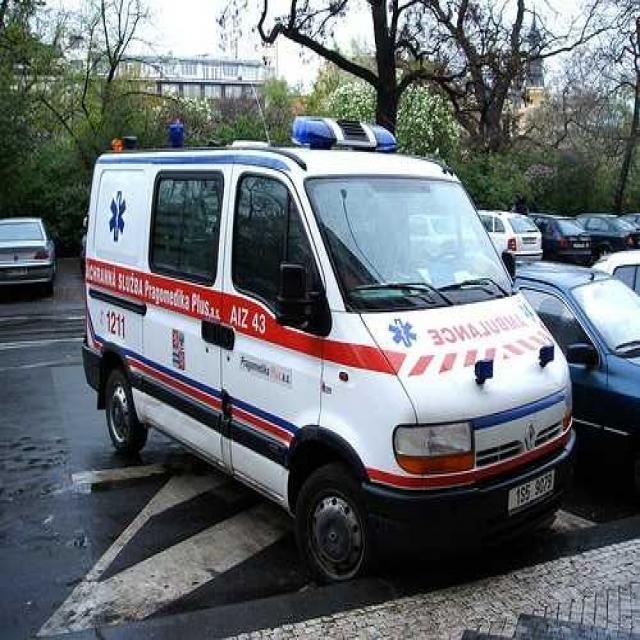emergency-vehicle: (78, 68, 584, 589)
